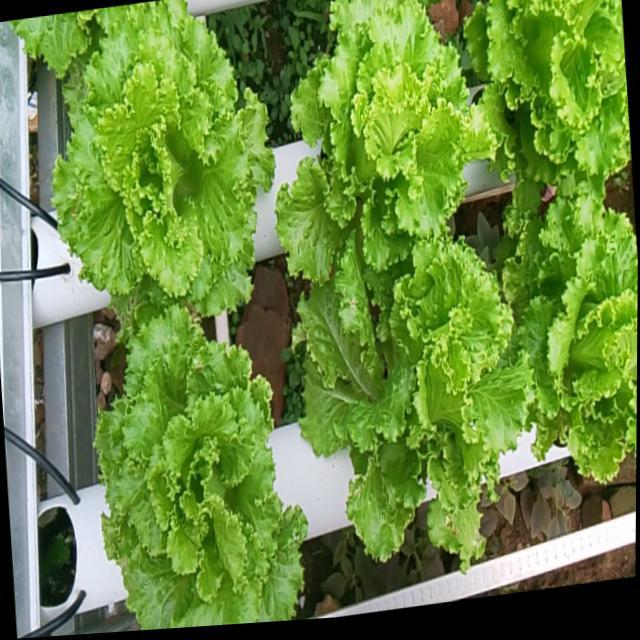Mature: (12, 0, 273, 335), (295, 233, 529, 562), (92, 306, 305, 630), (274, 0, 491, 310), (505, 202, 638, 482), (464, 0, 631, 197)
